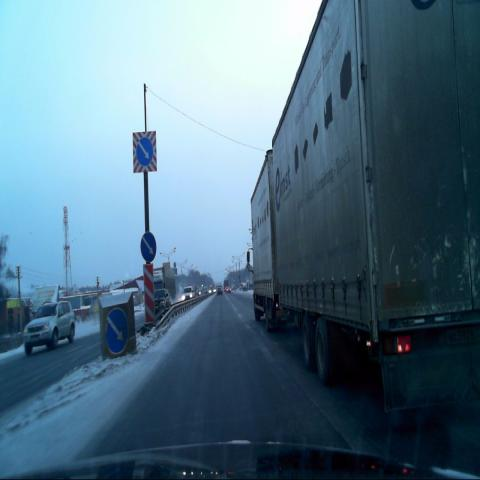4_2_1: (131, 131, 157, 173), (140, 233, 156, 262)
